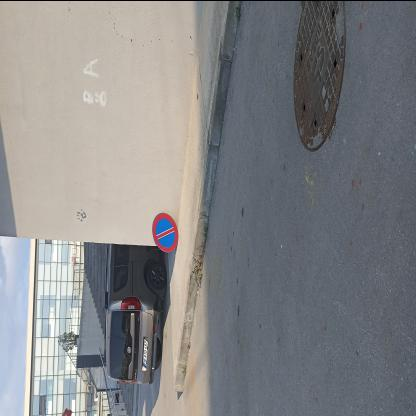No Waiting: (153, 213, 179, 252)
